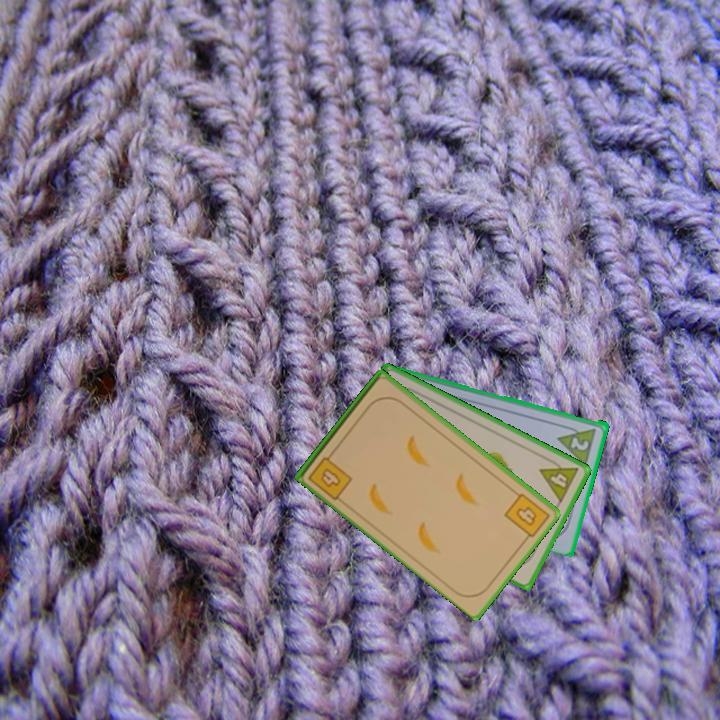2p: (555, 421, 600, 467)
4b: (501, 489, 552, 545), (304, 447, 355, 503)
4p: (536, 453, 582, 506)
